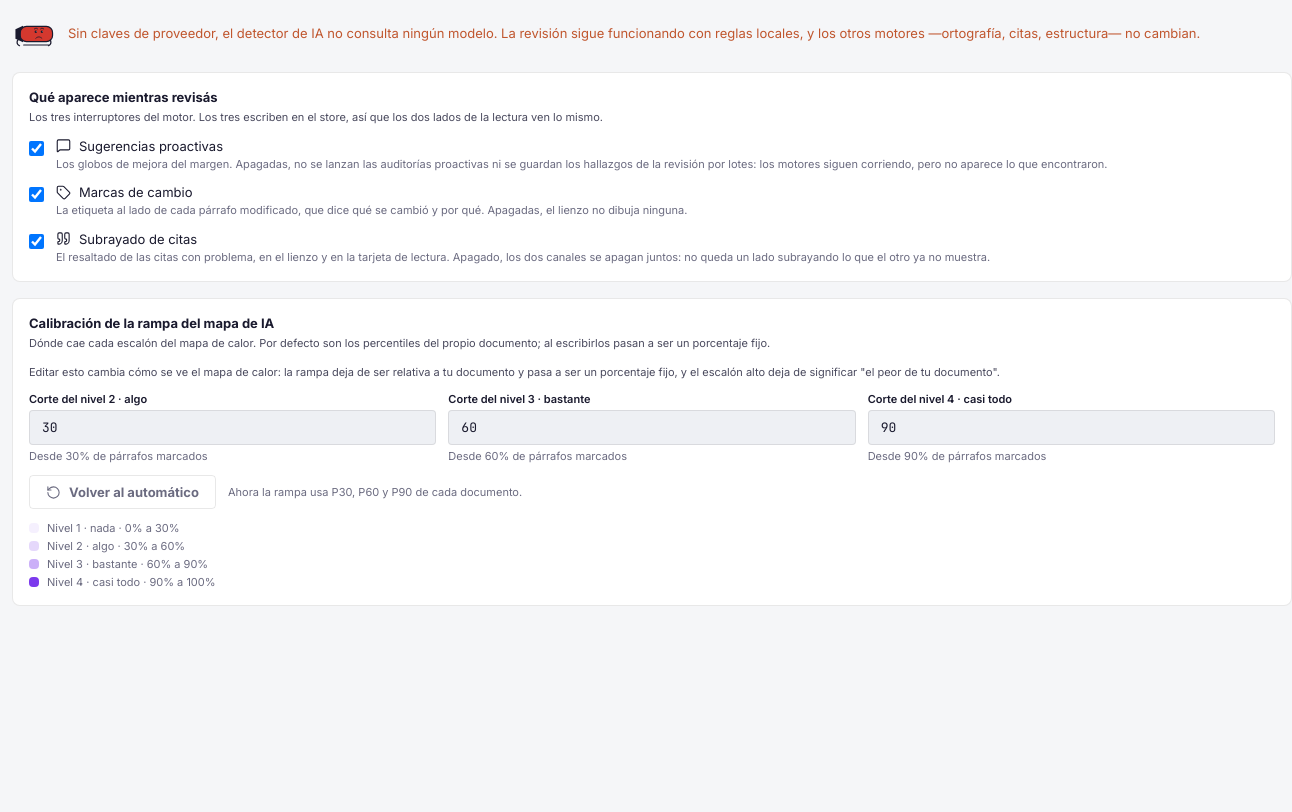
Test case: Revisión — la calibración de la rampa › VOLVER AL AUTOMÁTICO deshace lo escrito, en el store y en los campos
This screenshot has width=1292, height=812.
Replace the text in the number field labelled "Corte del nivel 2 · algo" with "95" at (233, 428), box [29,410,436,445]
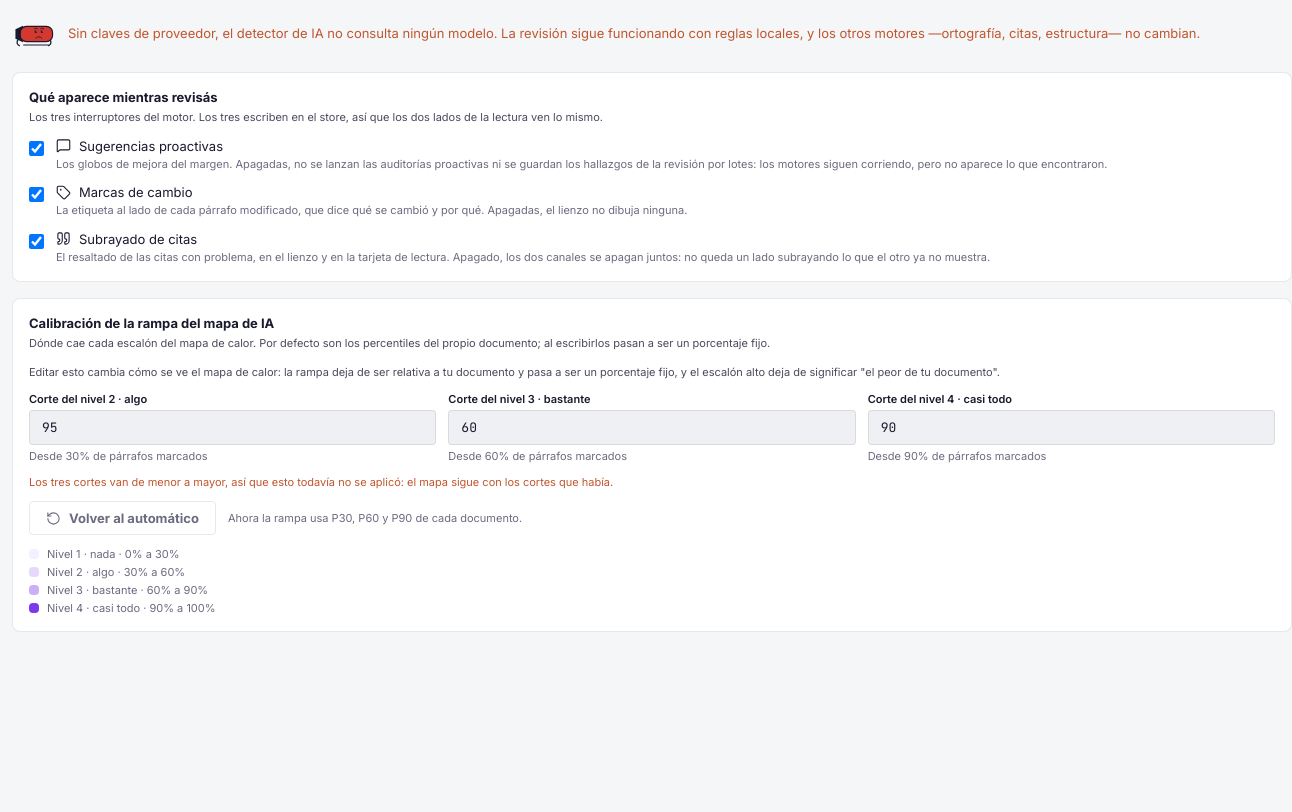
Replace the text in the number field labelled "Corte del nivel 3 · bastante" with "95" at (652, 428), box [448,410,856,445]
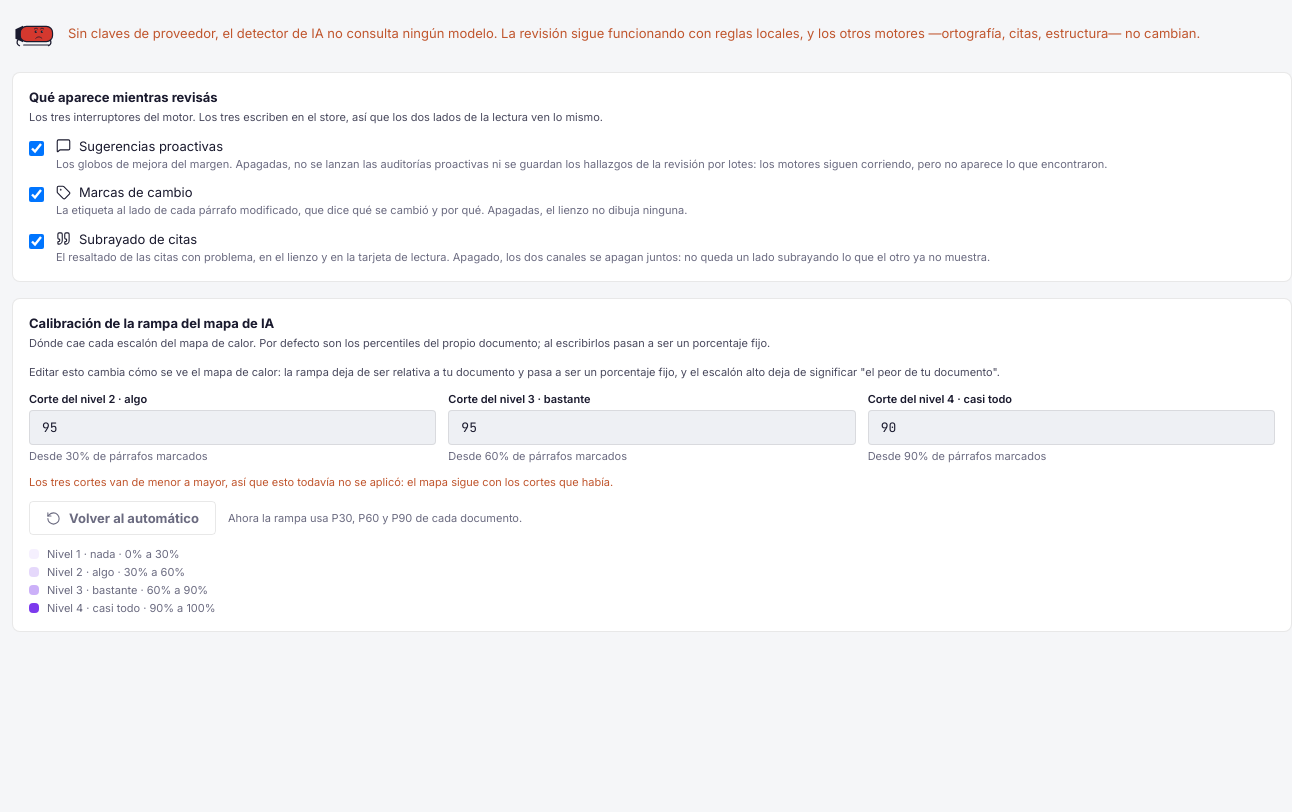
Replace the text in the number field labelled "Corte del nivel 4 · casi todo" with "95" at (1071, 428), box [868,410,1275,445]
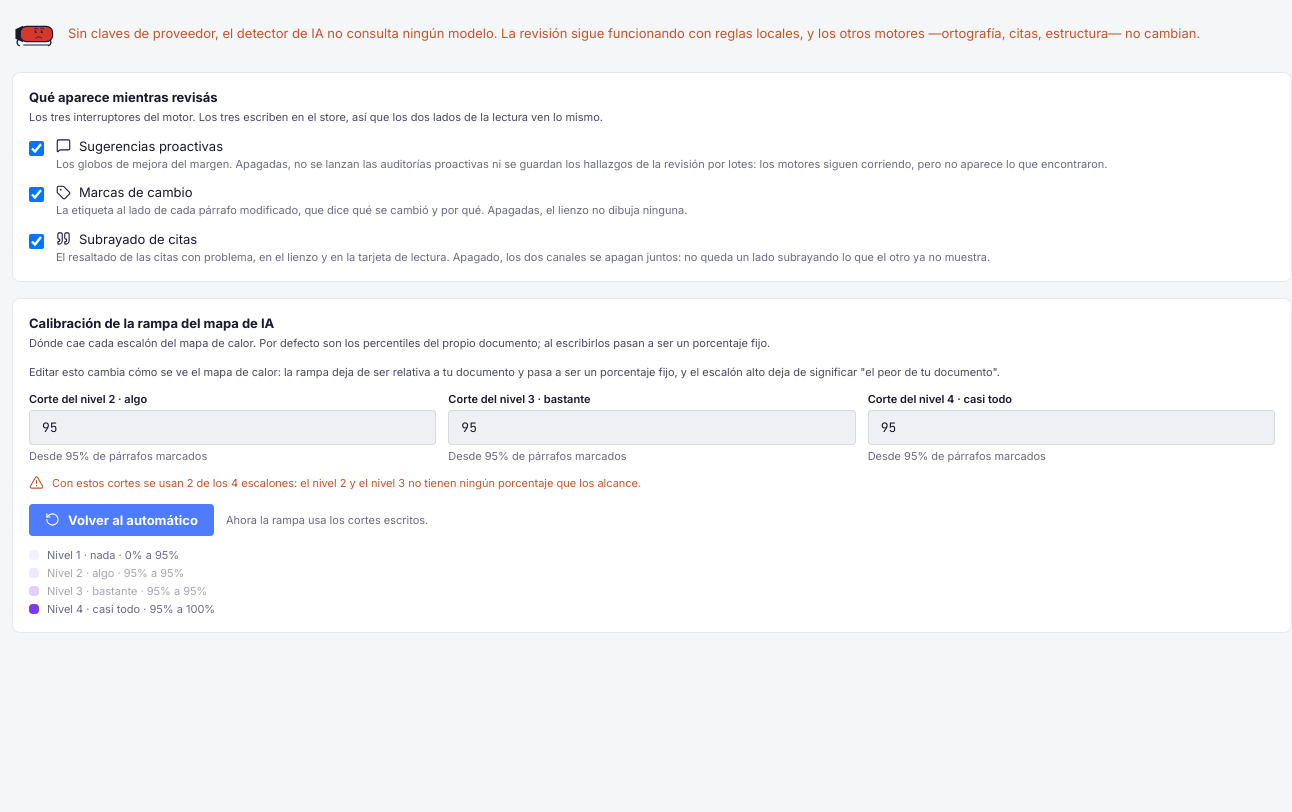
Result: the element with test id "cortes-sin-escalon" is shown at [29,475,641,490]
Click the button with test id "boton-cortes-automaticos" at (121, 520), box [29,504,214,536]
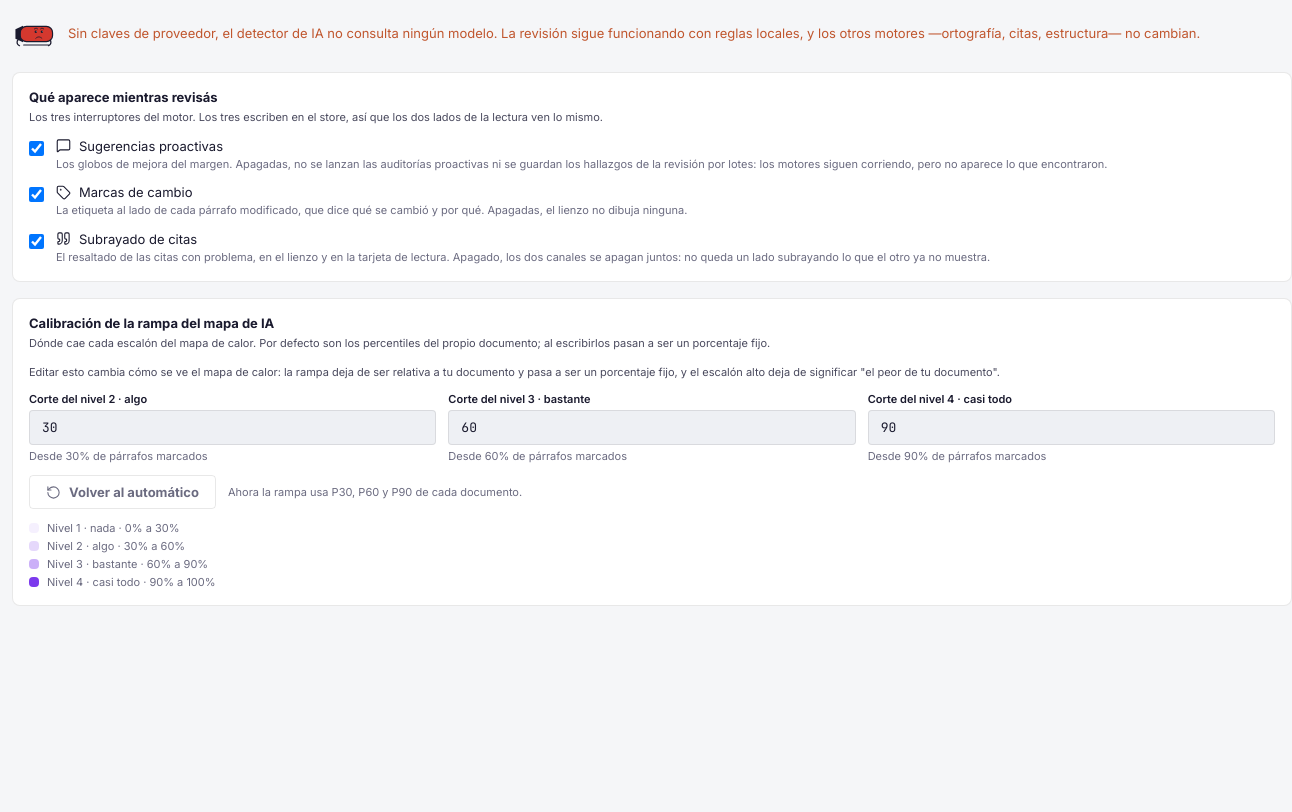
Result: the element with test id "cortes-sin-escalon" is gone
Result: the button with test id "boton-cortes-automaticos" is disabled at [29,475,216,509]
